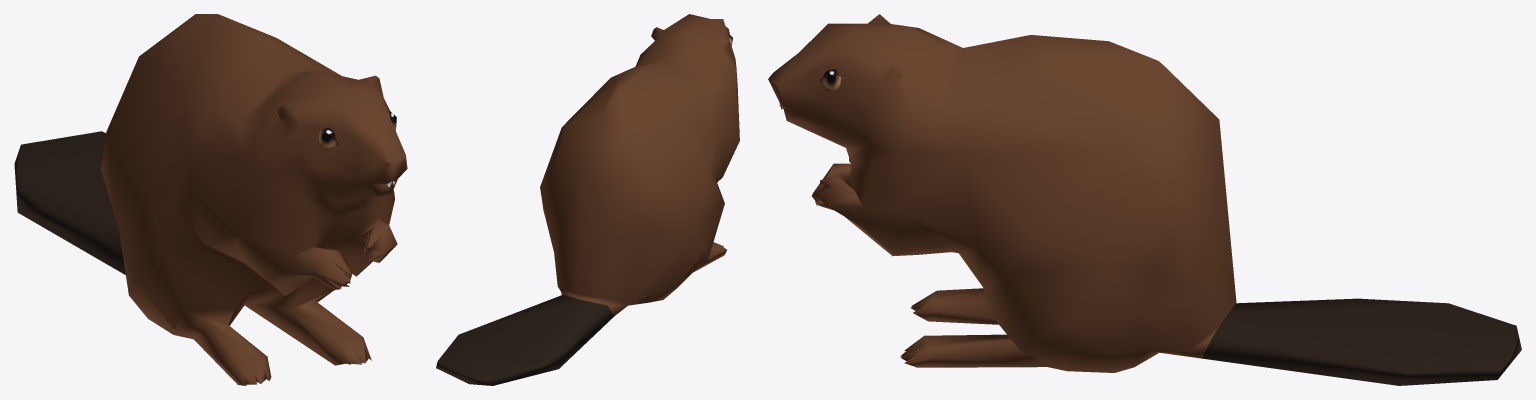
The model's file is Beaver02.glb.
3 views of the same model, side by side, from view 1: azimuth 30°, elevation 25°; view 2: azimuth 150°, elevation 25°; view 3: azimuth 270°, elevation 25° (orthographic). The views are drawn at different scales.
Parts seen in each view (by area): view 1: Beaver02; view 2: Beaver02; view 3: Beaver02.
Boxes of the visible parts, left/top/right/bottom form: Beaver02: left=14, top=14, right=407, bottom=385; Beaver02: left=436, top=14, right=739, bottom=385; Beaver02: left=768, top=14, right=1521, bottom=385.
Size of what is drawn, in the model's own units: 0.3508 by 0.4843 by 1.06.
1 material, 1 textured.
